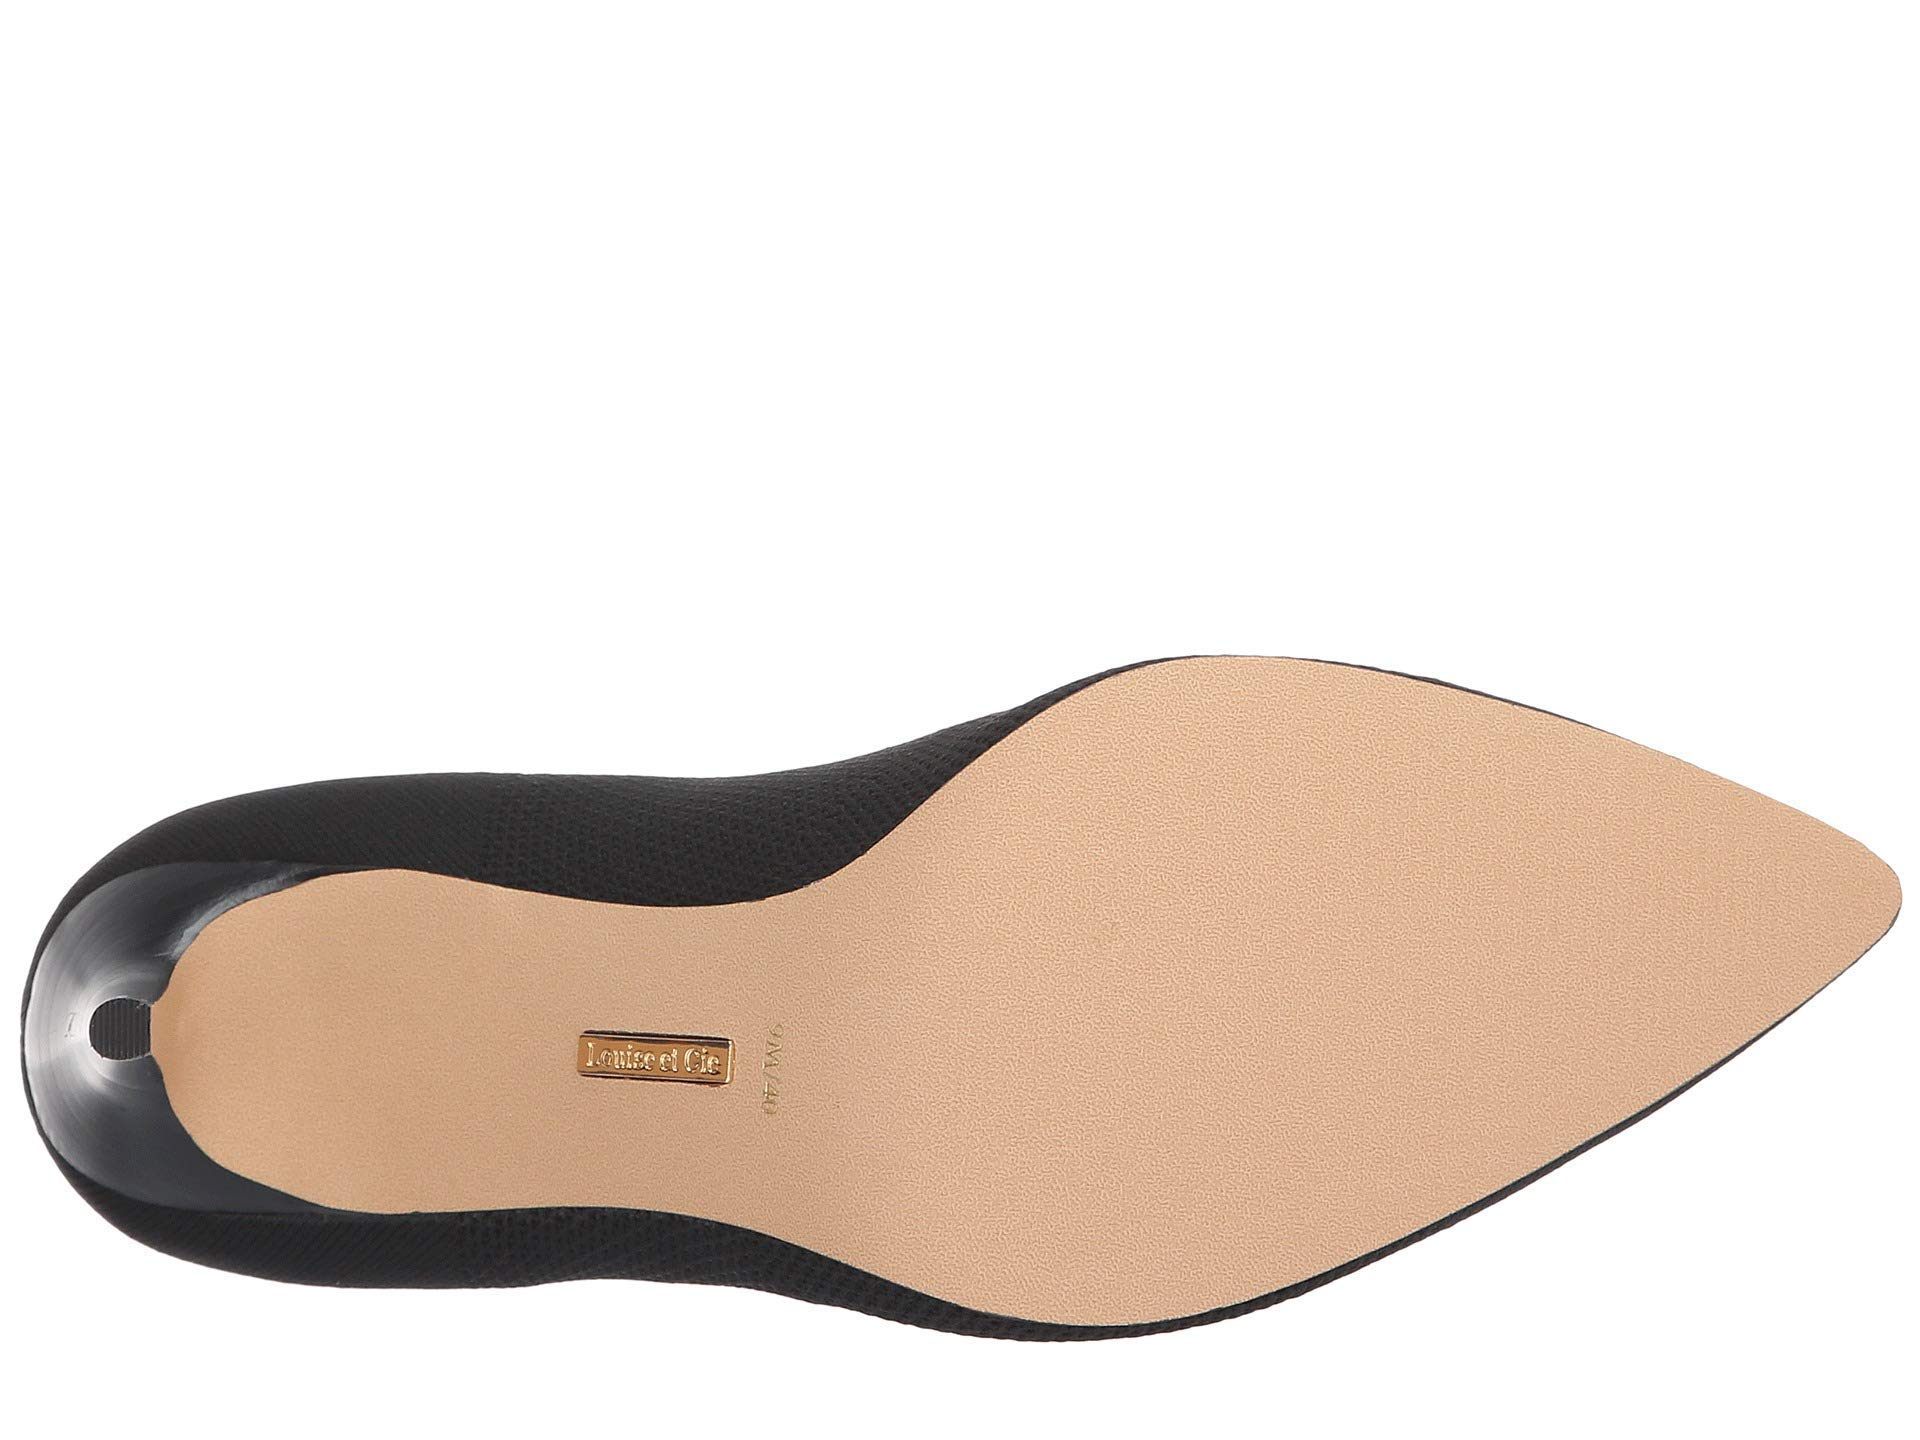circle: (91, 986, 160, 1068)
exclude: (252, 806, 887, 1260)
